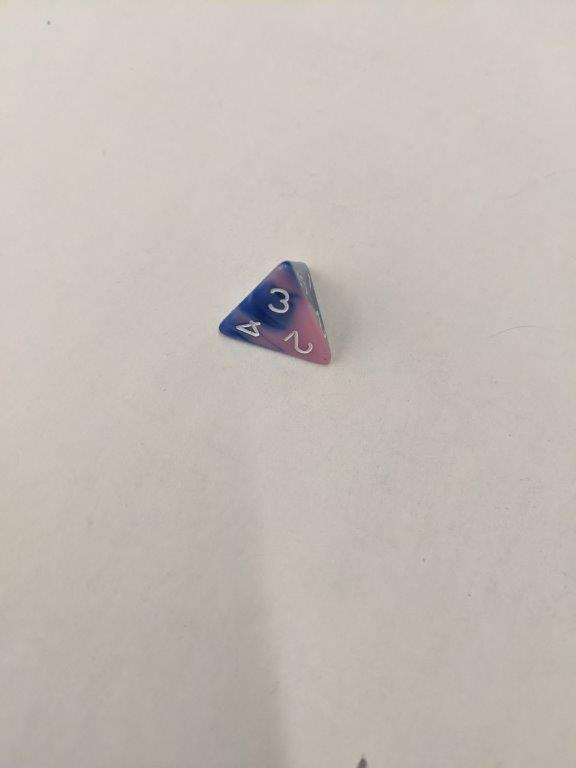d4-3: (218, 259, 338, 370)
